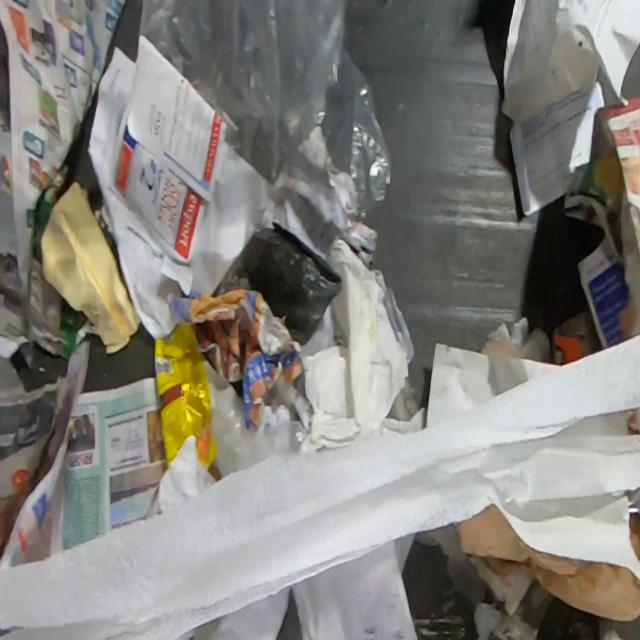soft_plastic: (137, 0, 393, 222), (454, 501, 640, 623), (213, 220, 343, 349), (205, 359, 318, 479), (153, 322, 218, 470)
